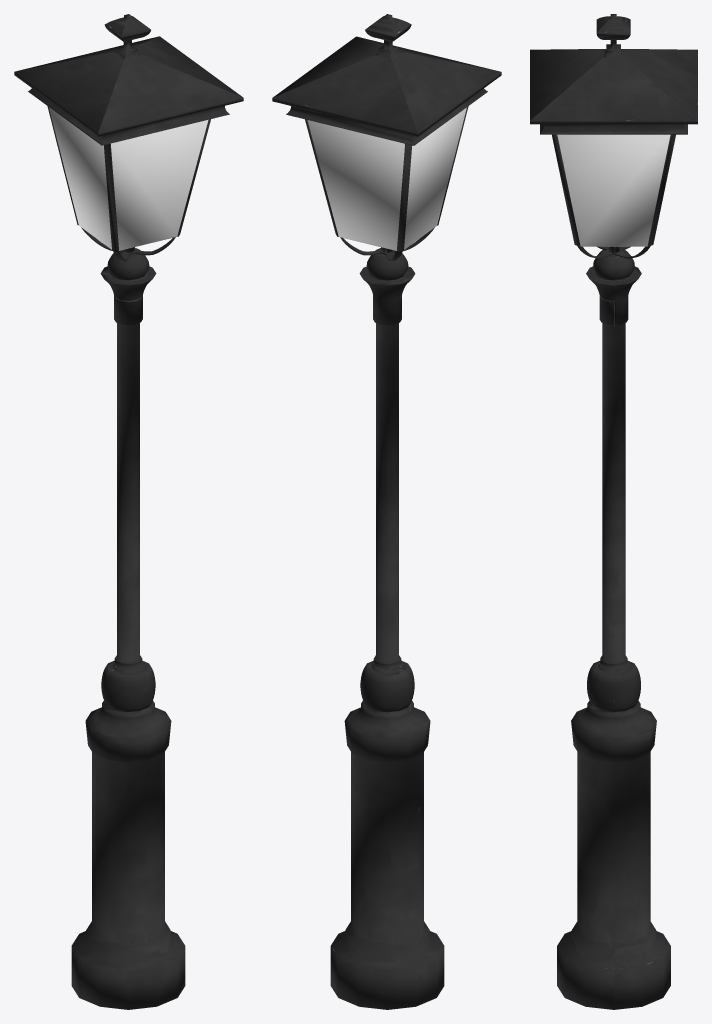
Rendered from victorian-lamp.glb.
3 renders of one model, left to right at view 1: azimuth 30°, elevation 25°; view 2: azimuth 150°, elevation 25°; view 3: azimuth 270°, elevation 25°, orthographic.
Visible parts, largest first — view 1: Light; view 2: Light; view 3: Light.
Boxes of the visible parts, x1,y1,x2,y2 form: Light: (14,14,243,1009); Light: (272,14,501,1009); Light: (530,14,697,1009).
Size of the model in its own units: 0.4147 by 2.65 by 0.4147.
1 material, 1 textured.
